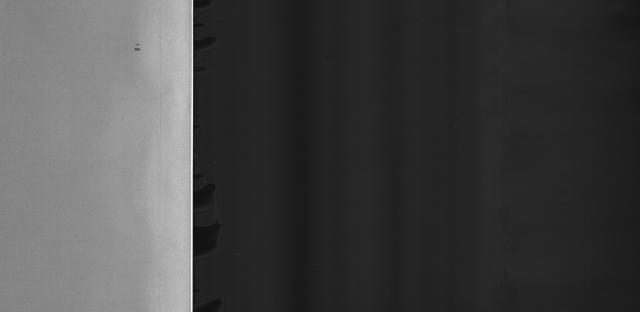oil_spot: (132, 37, 150, 61)
